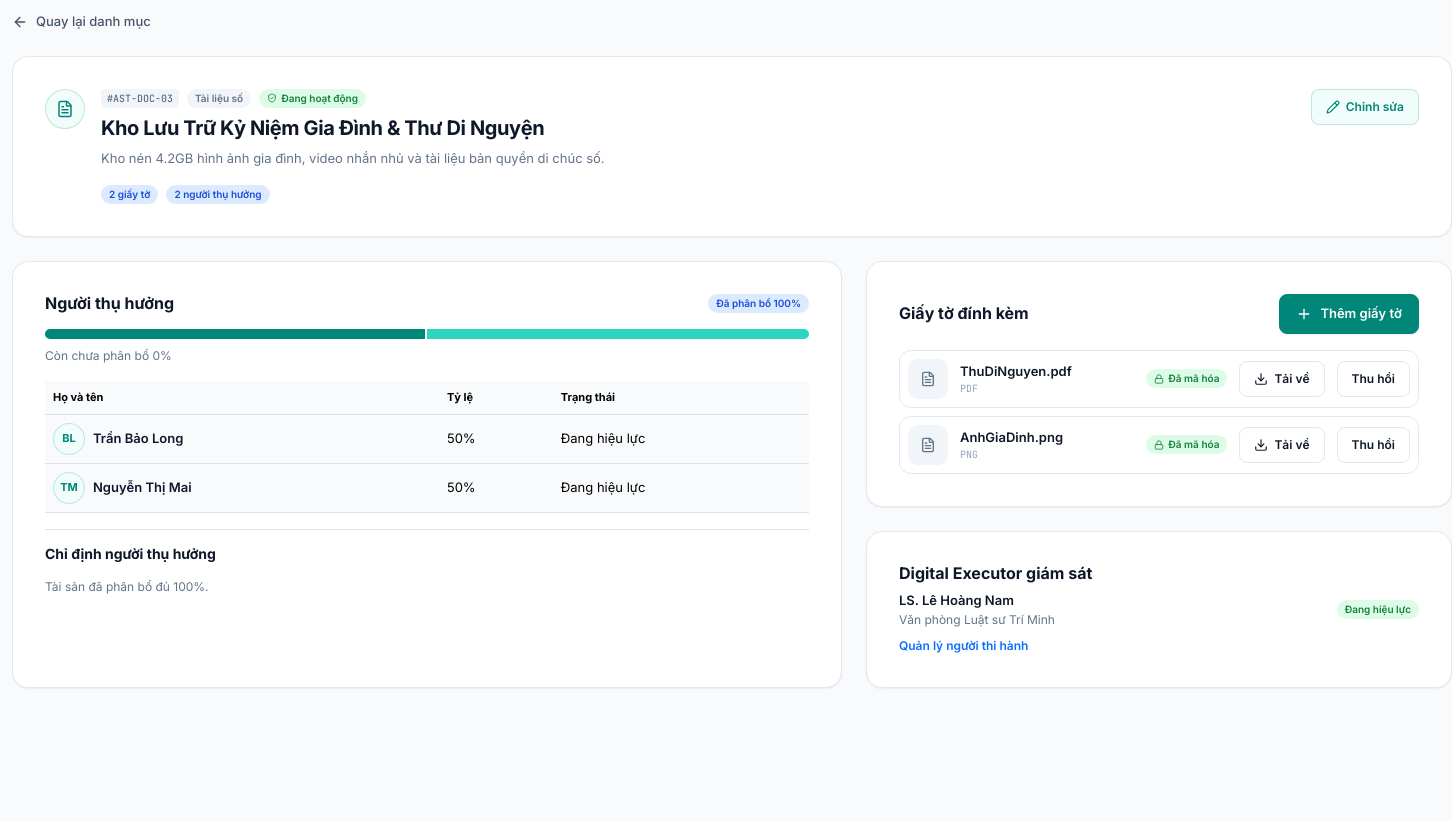
AssetDetailPage group A details › download › download_OnlyThatDocumentIsRequested
This screenshot has width=1452, height=822.
Click the button "Tải về" in the row of "AnhGiaDinh.png".
click(1282, 445)  # box [1239,427,1324,463]
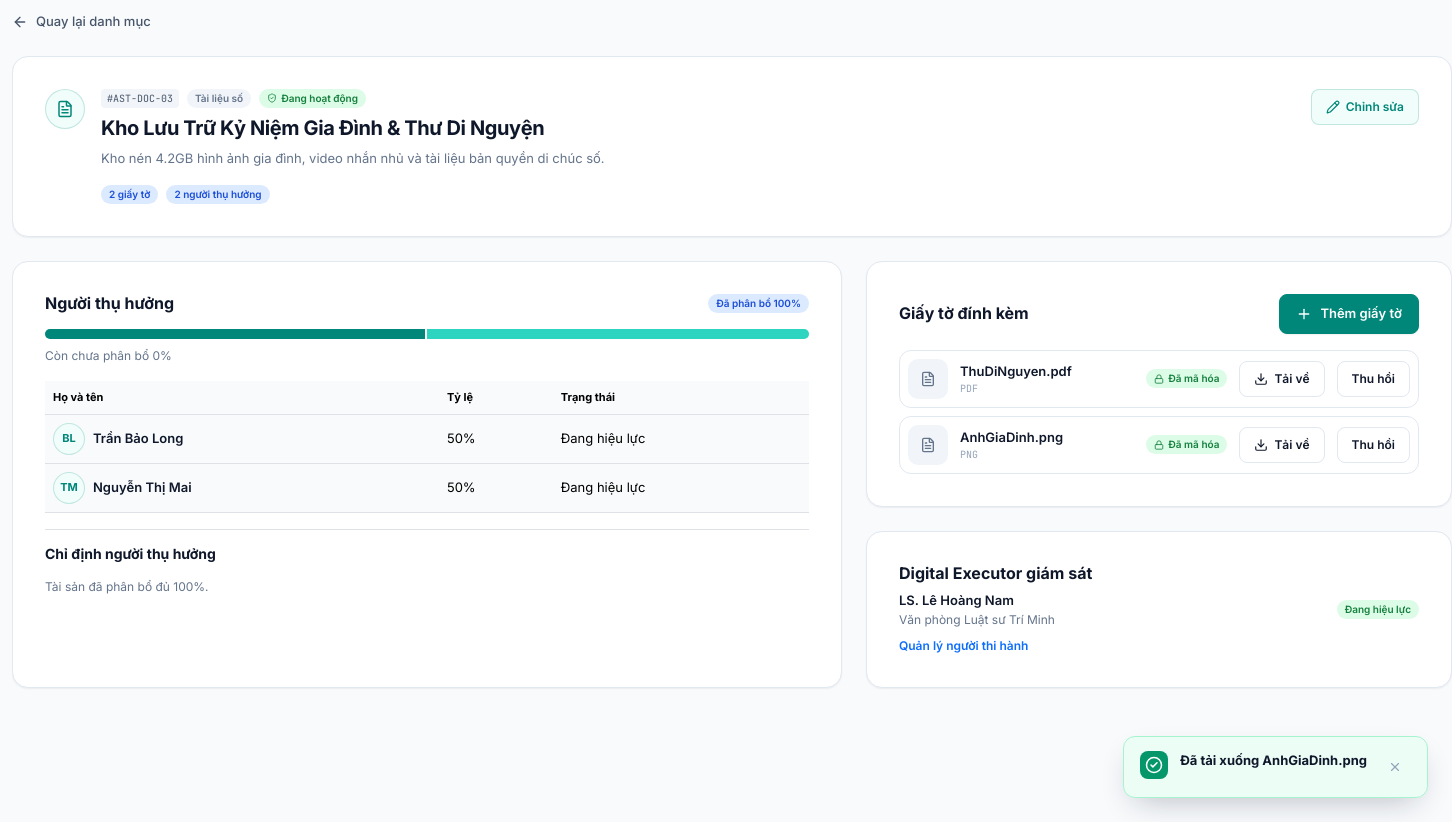
expect the text "Đã tải xuống AnhGiaDinh.png" is shown: met, box [1180,751,1367,770]
